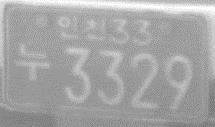2: (130, 53, 160, 109)
3: (62, 47, 92, 103), (96, 49, 125, 105), (131, 19, 152, 47), (109, 18, 129, 44)
9: (165, 56, 194, 109)
누: (14, 42, 48, 79)
인천_O: (57, 13, 106, 42)
